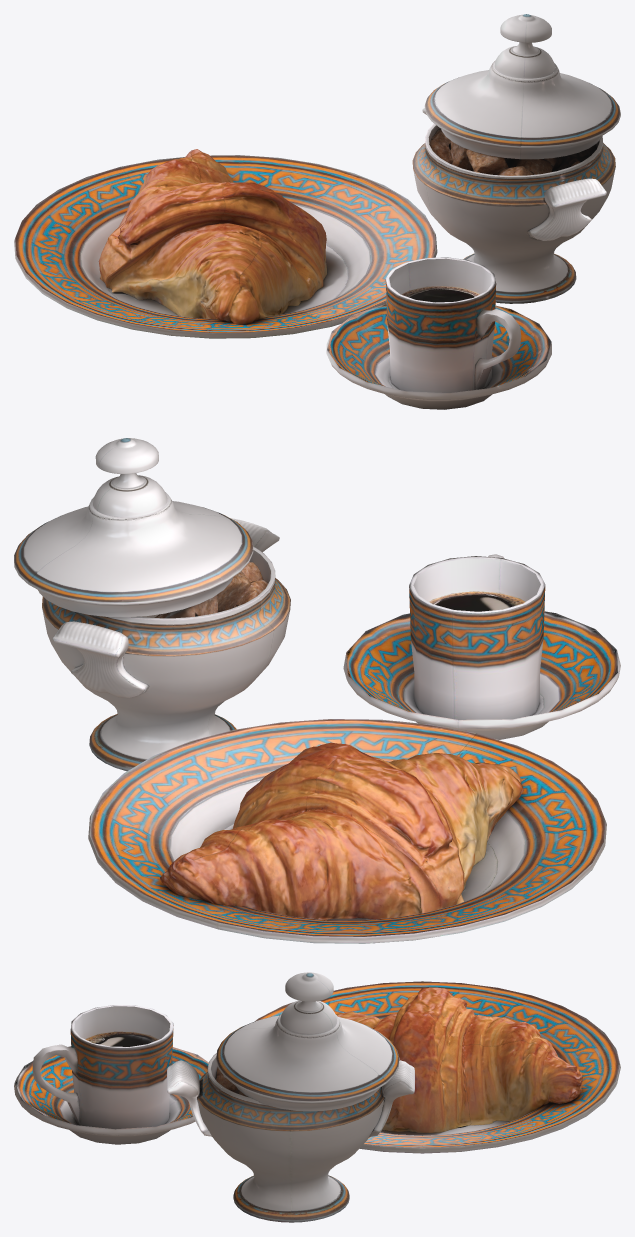
File: 07_Croissant_Cycles.glb
3 views of the same model, one above another, from view 1: azimuth 30°, elevation 25°; view 2: azimuth 150°, elevation 25°; view 3: azimuth 270°, elevation 25° (orthographic). The views are drawn at different scales.
Visible parts, largest first — view 1: Croissant.001, Croissant.003, Croissant.004; view 2: Croissant.001, Croissant.003, Croissant.004; view 3: Croissant.001, Croissant.003, Croissant.004.
Part boxes in pixels (bbox=[...]): Croissant.001: bbox=[14, 149, 437, 338]; Croissant.003: bbox=[412, 14, 620, 303]; Croissant.004: bbox=[326, 257, 551, 409]; Croissant.001: bbox=[88, 719, 606, 943]; Croissant.003: bbox=[14, 438, 290, 771]; Croissant.004: bbox=[343, 554, 620, 739]; Croissant.001: bbox=[255, 981, 620, 1153]; Croissant.003: bbox=[166, 972, 414, 1222]; Croissant.004: bbox=[14, 1005, 208, 1144].
Bounding box in the file's own units: 0.2736 × 0.1308 × 0.3047.
6 materials, 6 textured.
